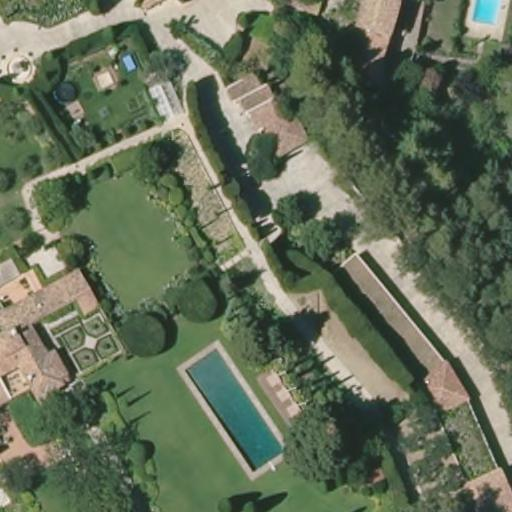pool: (182, 341, 292, 473), (465, 0, 505, 28)
